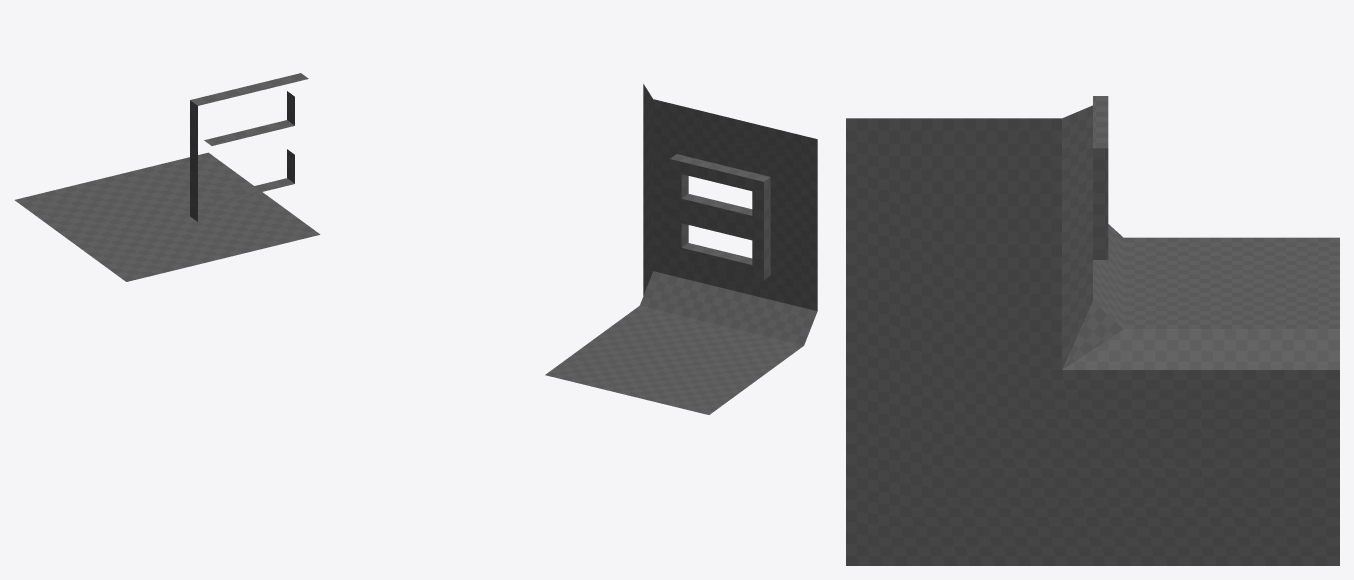
The picture shows the model from 3 angles, left to right: view 1: azimuth 30°, elevation 25°; view 2: azimuth 150°, elevation 25°; view 3: azimuth 270°, elevation 25°; orthographic projection. The views are drawn at different scales.
Visible parts, largest first — view 1: CubeUpBackRight4V1; view 2: CubeUpBackRight4V1; view 3: CubeUpBackRight4V1.
Part boxes in pixels (x1=…): CubeUpBackRight4V1: x1=14, y1=73, x2=320, y2=281; CubeUpBackRight4V1: x1=545, y1=84, x2=817, y2=414; CubeUpBackRight4V1: x1=846, y1=96, x2=1339, y2=565.
Size of the model in its own units: 2 by 4 by 4.
Materials: 1 (1 with a texture image).
